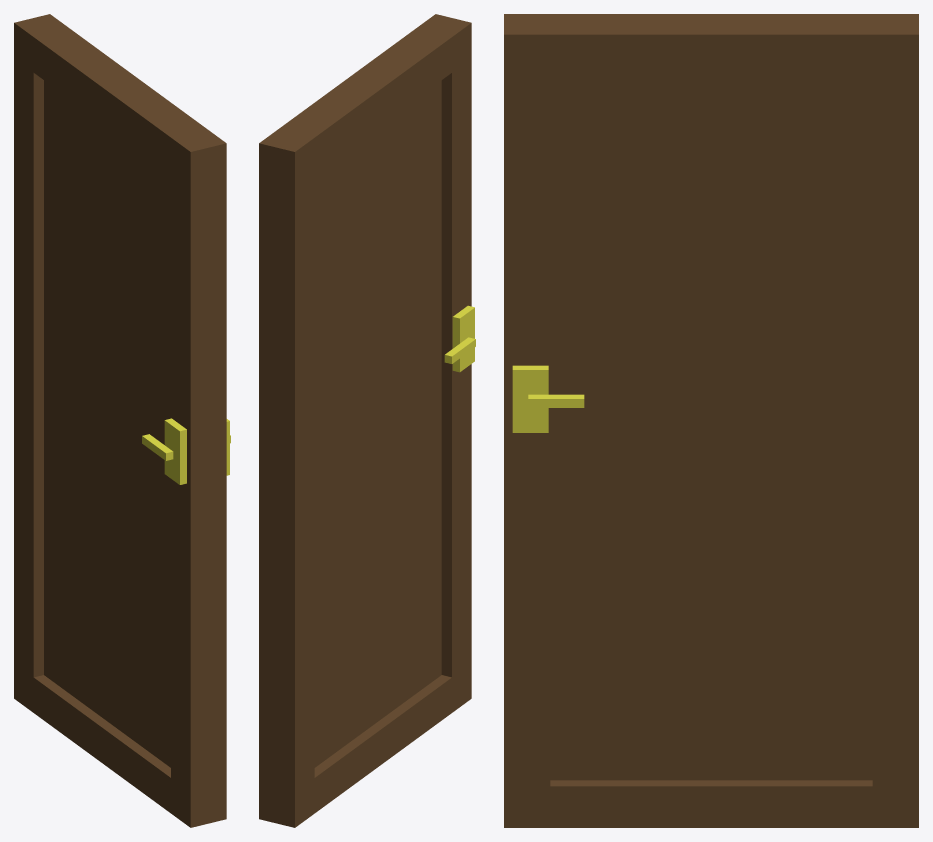
File: Door.glb
3 renders of one model, left to right at view 1: azimuth 30°, elevation 25°; view 2: azimuth 150°, elevation 25°; view 3: azimuth 270°, elevation 25°, orthographic. The views are drawn at different scales.
Visible parts, largest first — view 1: Door-col; view 2: Door-col; view 3: Door-col.
Boxes of the visible parts, x1,y1,x2,y2 form: Door-col: [14, 14, 230, 827]; Door-col: [259, 14, 475, 827]; Door-col: [504, 14, 918, 827].
Bounding box in the file's own units: 0.191 × 1.9 × 0.9.
